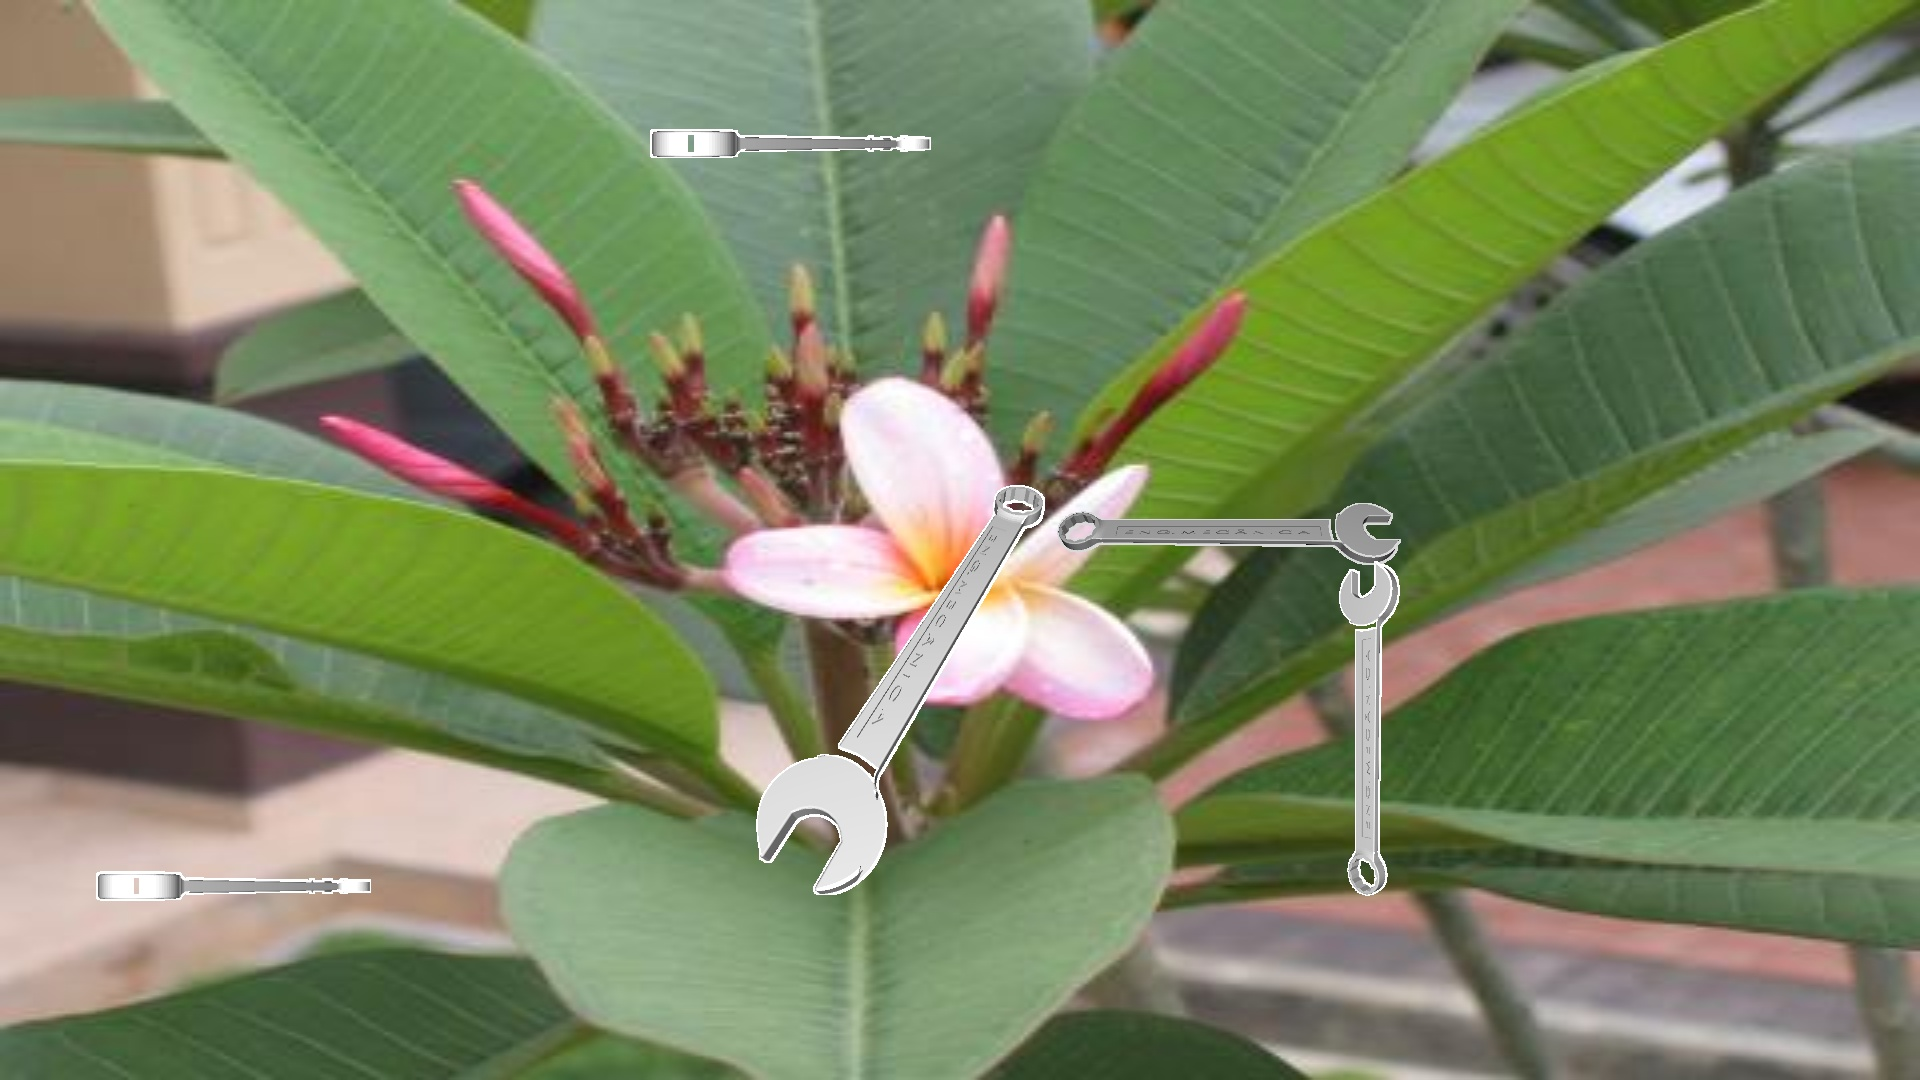Mixed Key: (756, 485, 1044, 894), (1058, 502, 1400, 564), (1338, 560, 1399, 895), (96, 872, 371, 901), (650, 129, 930, 157)
